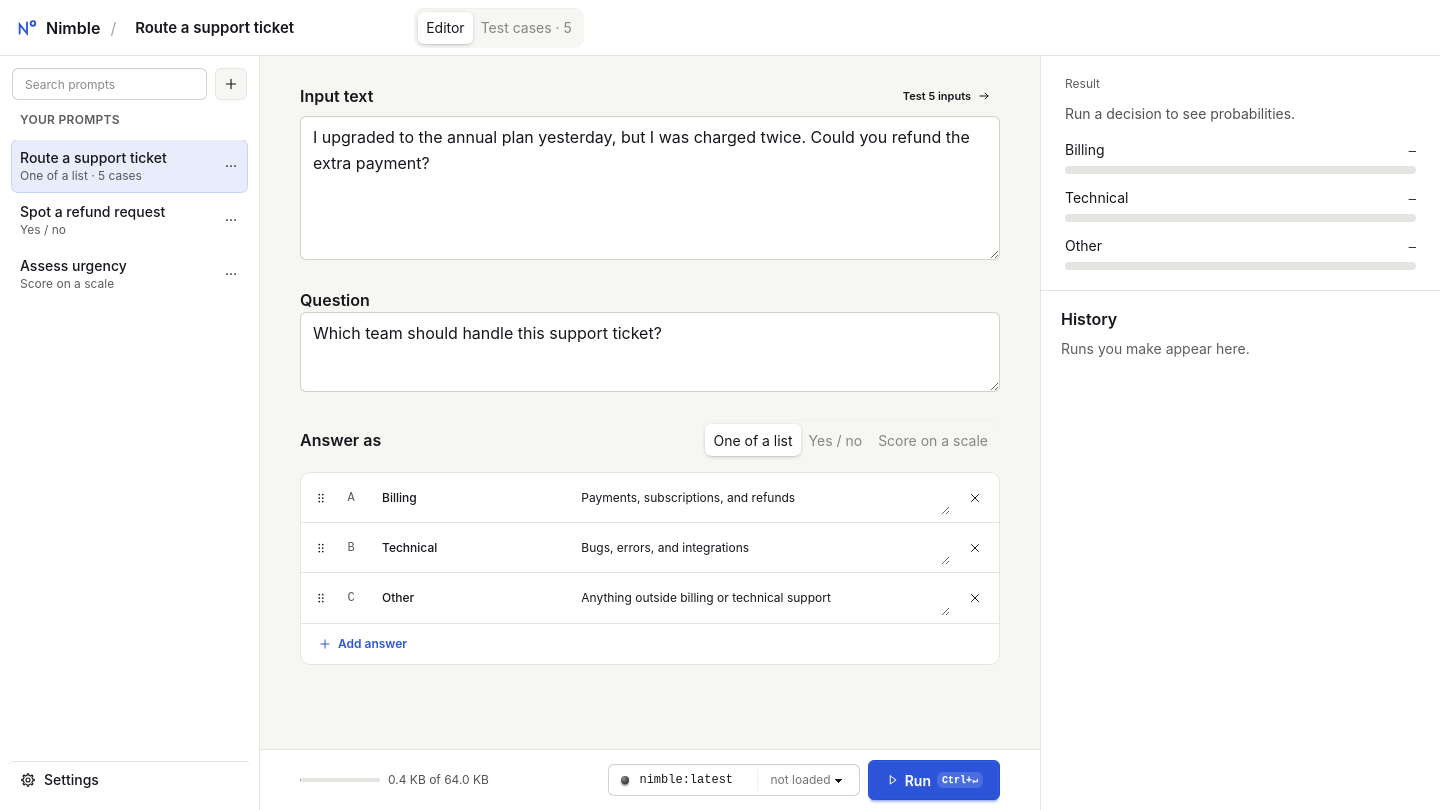
Scenario: workspace workflows › keeps the previous name when the new one is taken
Clear the field named "Prompt name". click: coordinates (265, 28)
box: [126,12,404,44]
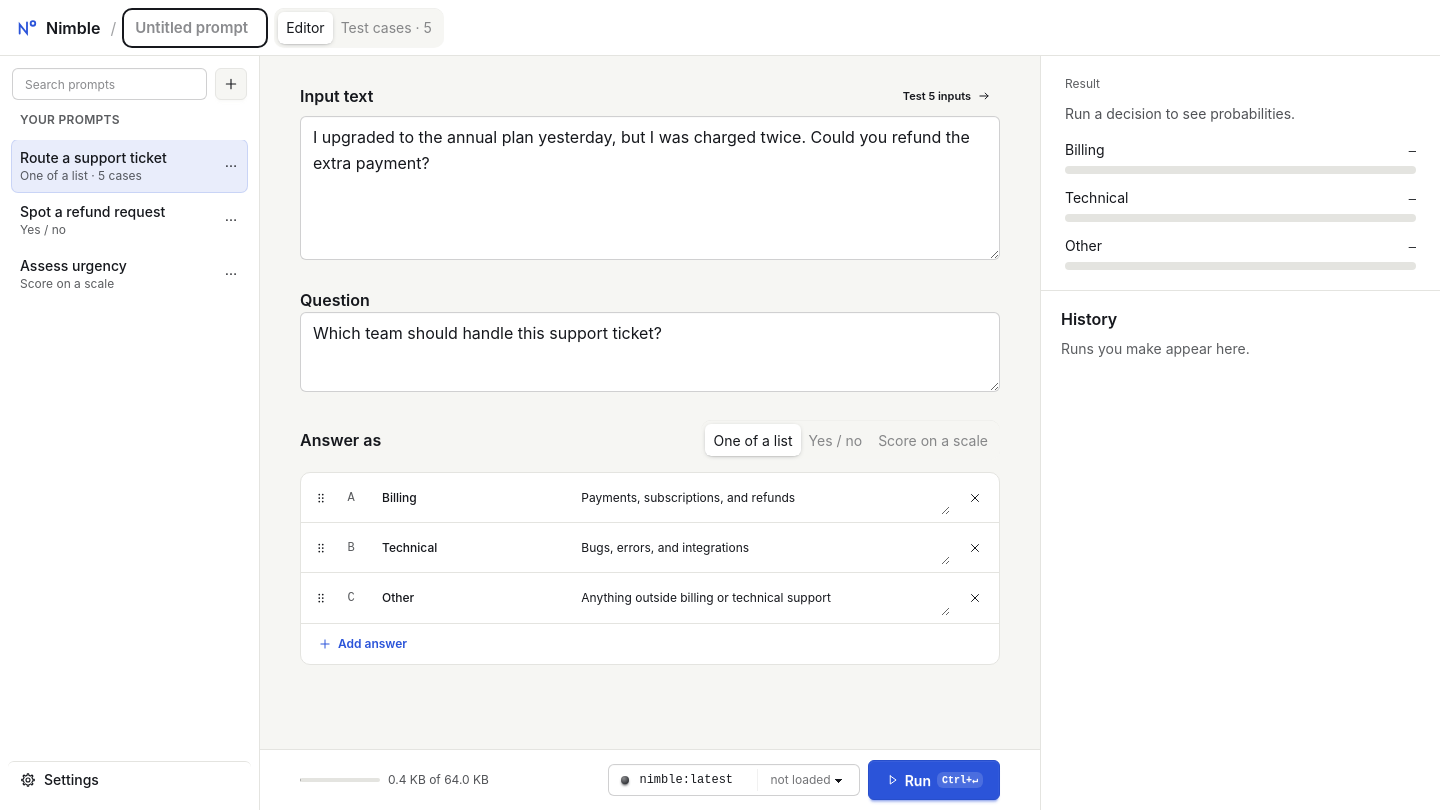
Type "Spot a refund request" into the field named "Prompt name". click: coordinates (195, 28)
box: [126,12,264,44]
Then press Enter
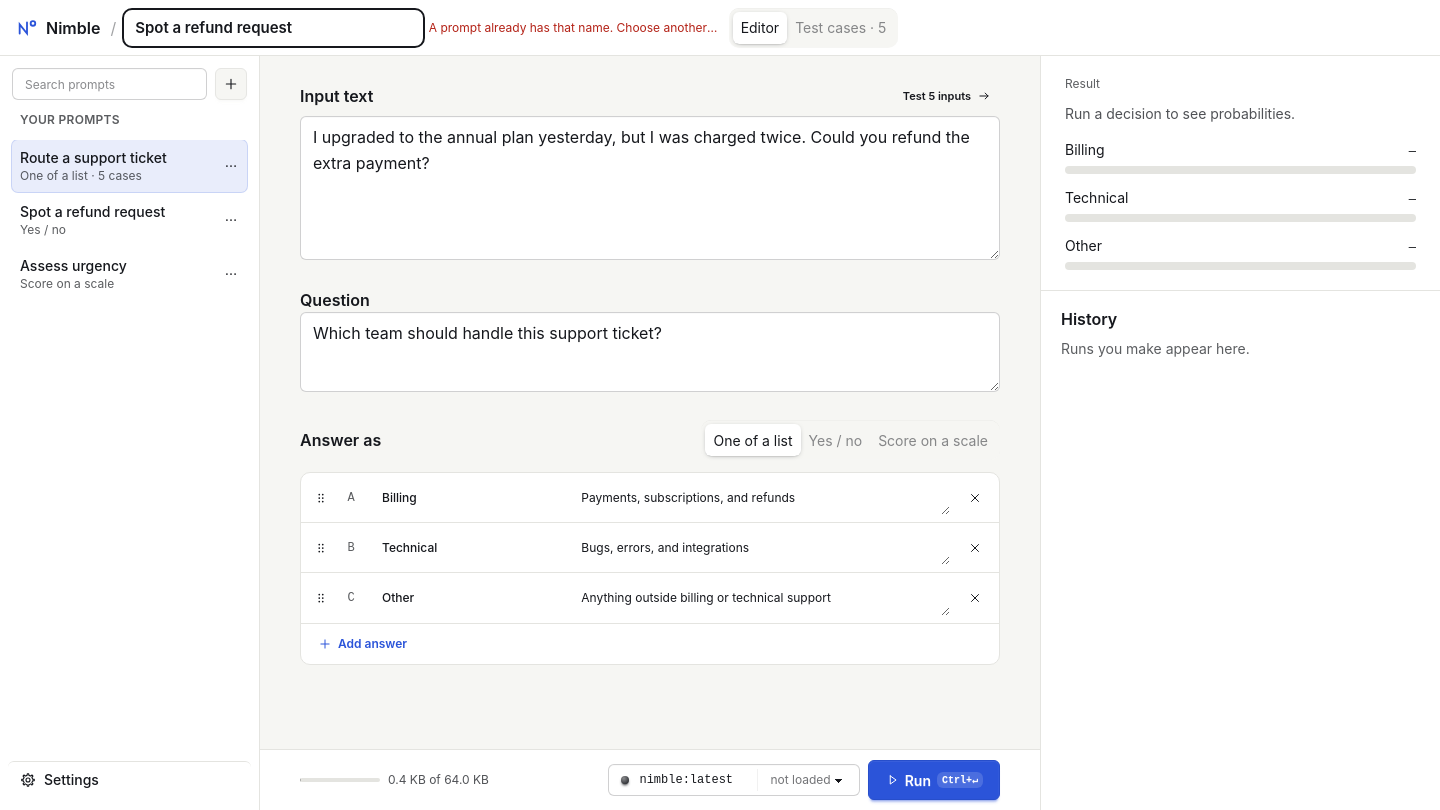
Expected: the text "Route a support ticket" is shown, [20,149,167,166]
Expected: the message shows "already has that name", [429,20,745,34]
